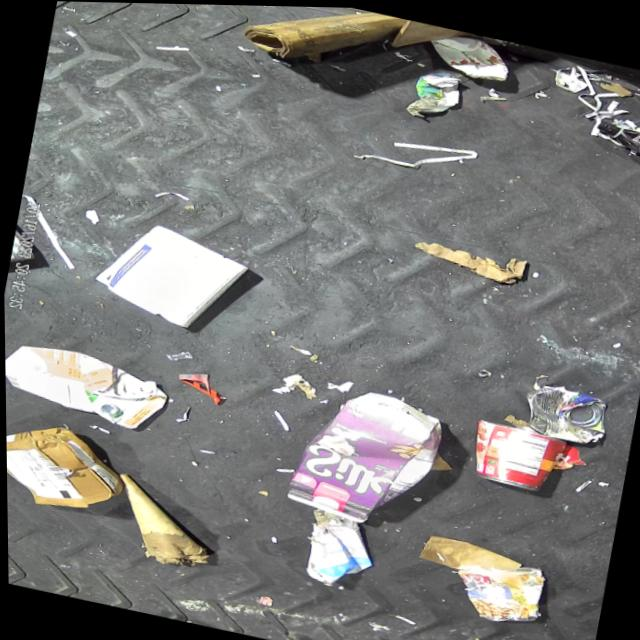can: (445, 548, 546, 629), (462, 415, 565, 494), (515, 376, 611, 447), (423, 25, 518, 83)
non_white_jug: (280, 377, 450, 535), (4, 336, 168, 436)
